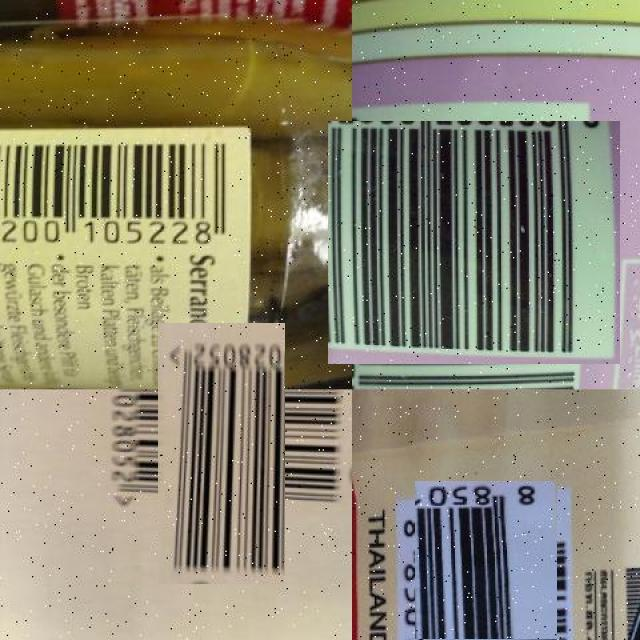Barcode: (340, 108, 607, 377), (124, 356, 319, 551), (0, 130, 244, 250), (406, 489, 565, 640)
